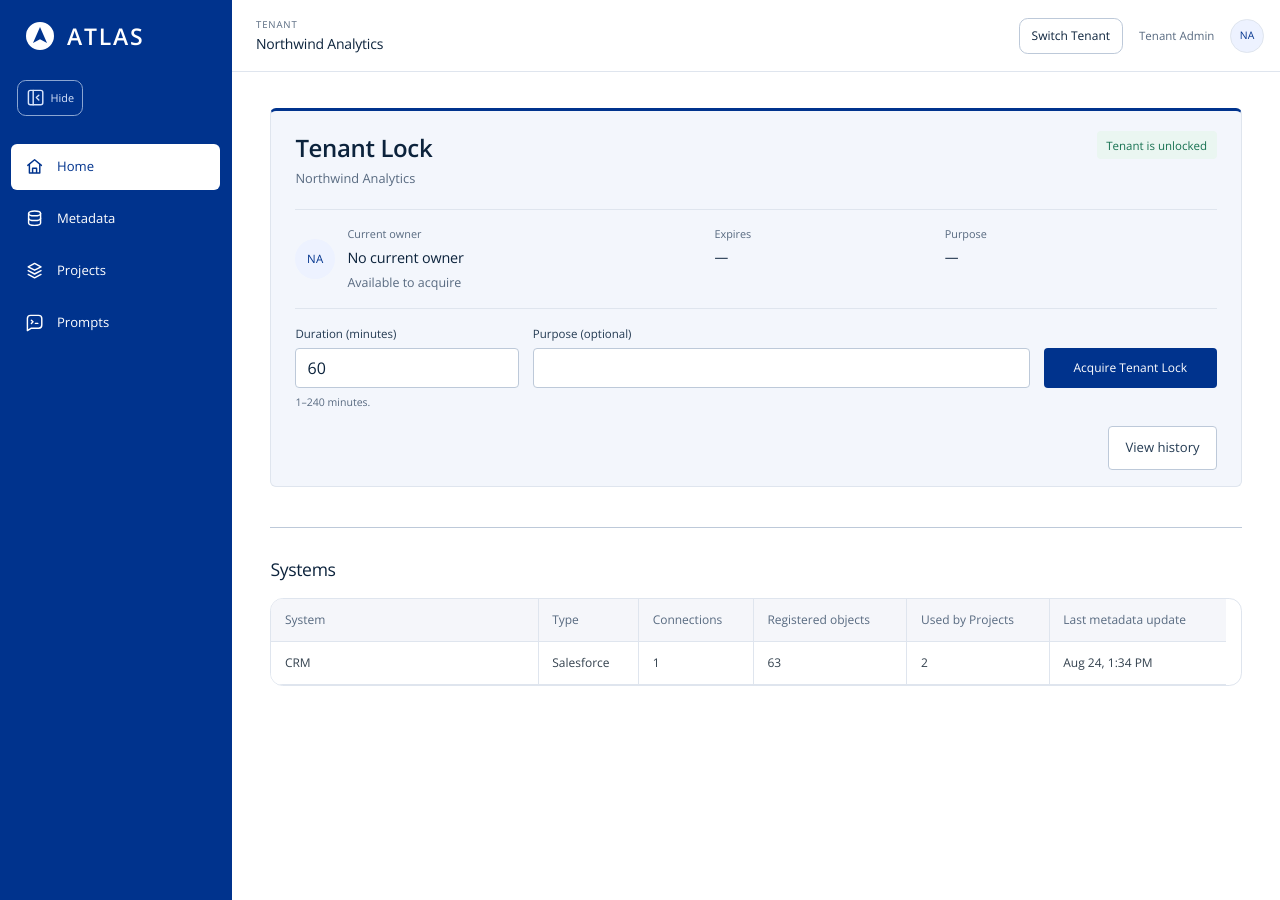
Tenant Home › connects explicit Tenant Lock acquisition to refreshed Home state
Expected: the text "Tenant is unlocked" is shown, [1097,131,1217,160]
Replace the text in the number field labelled "Duration (minutes)" with "75" at {"x": 407, "y": 368}, box [295,348,519,388]
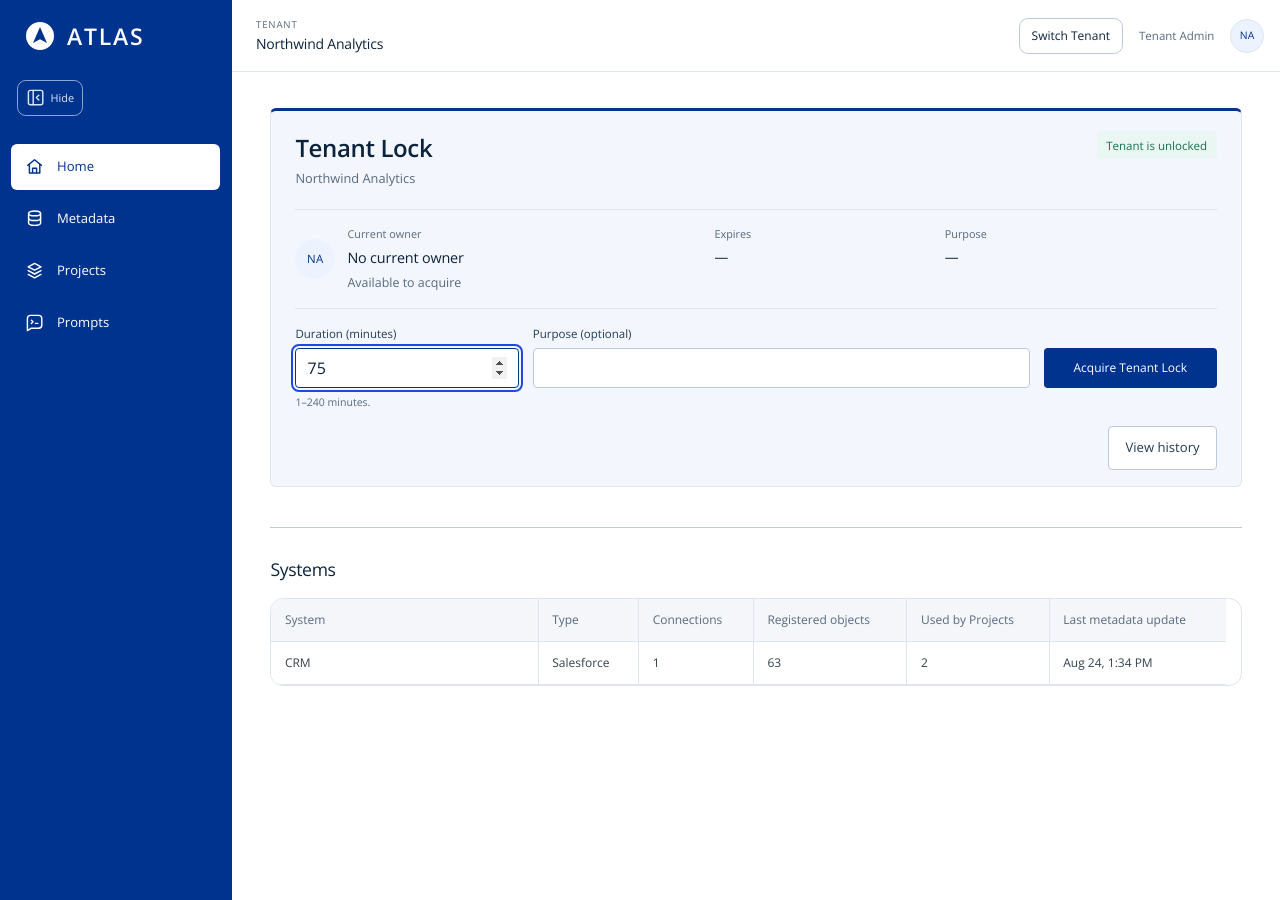
Type "Scope review" into the field labelled "Purpose (optional)" at {"x": 782, "y": 368}, box [533,348,1030,388]
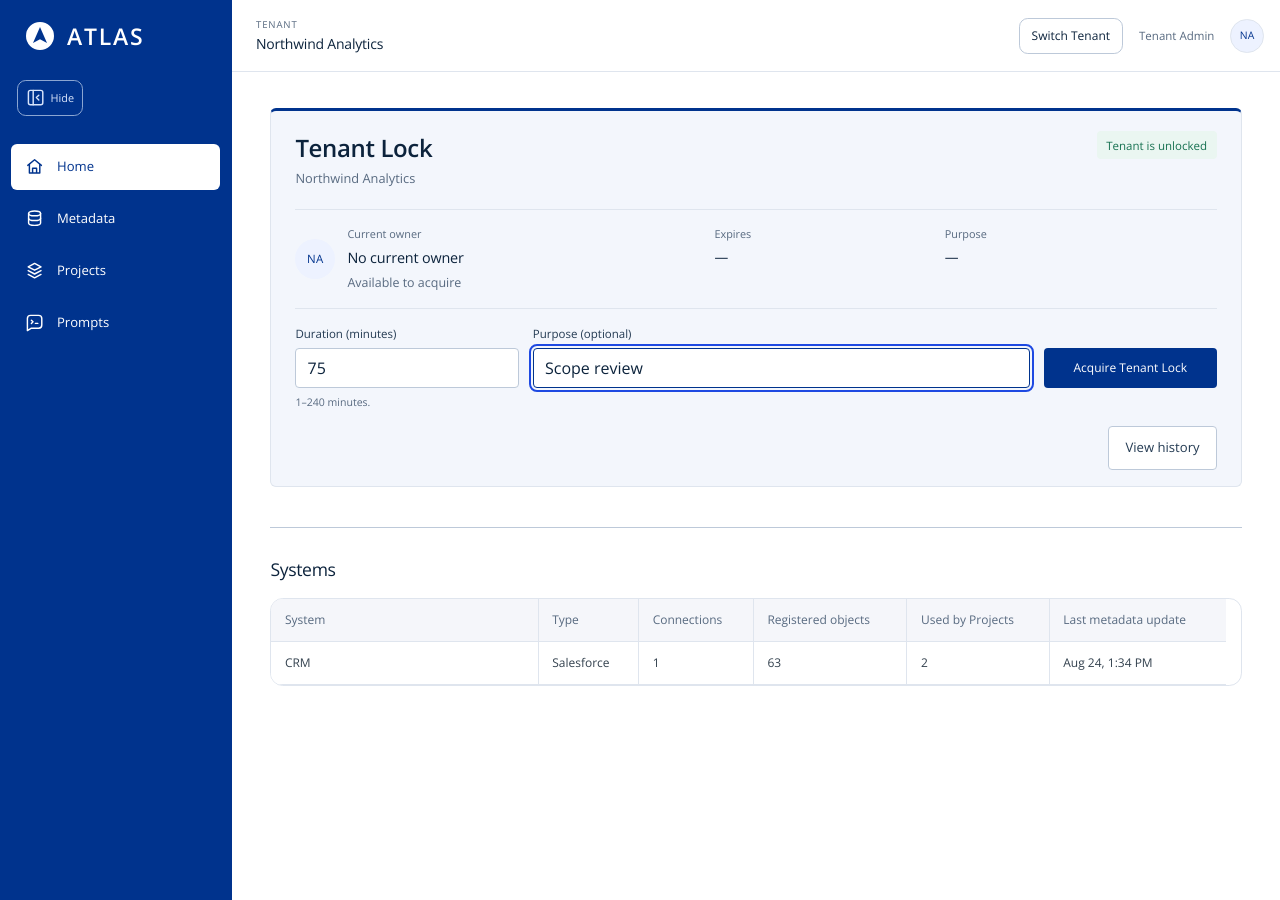
Click the button "Acquire Tenant Lock" at {"x": 1130, "y": 368}, box [1044,348,1217,388]
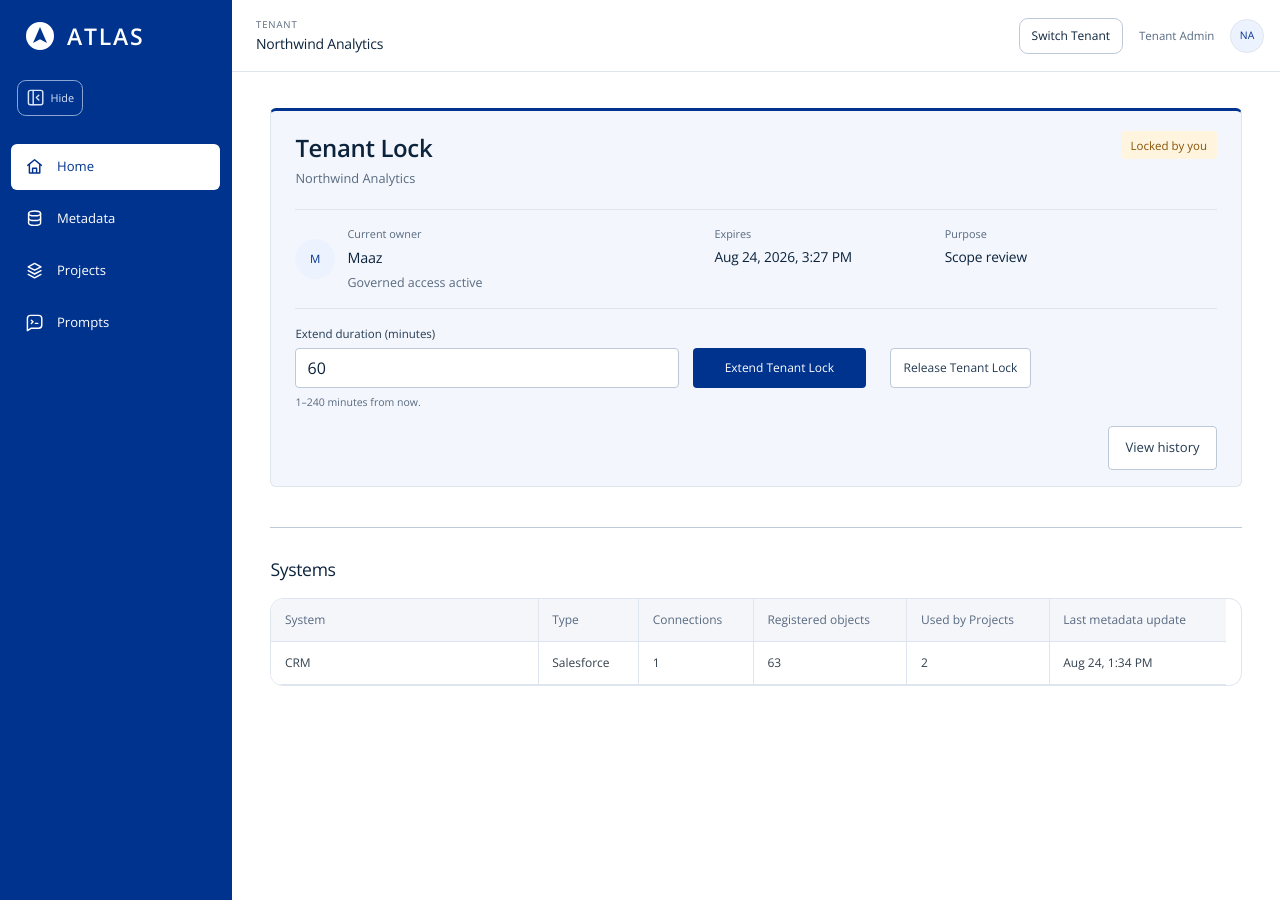
Now the text "Locked by you" is shown, box [1121,131,1217,160]
